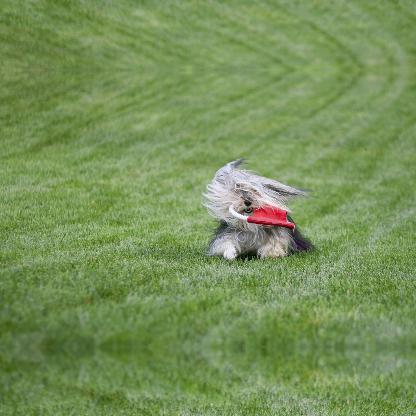Dog: (200, 156, 316, 260)
